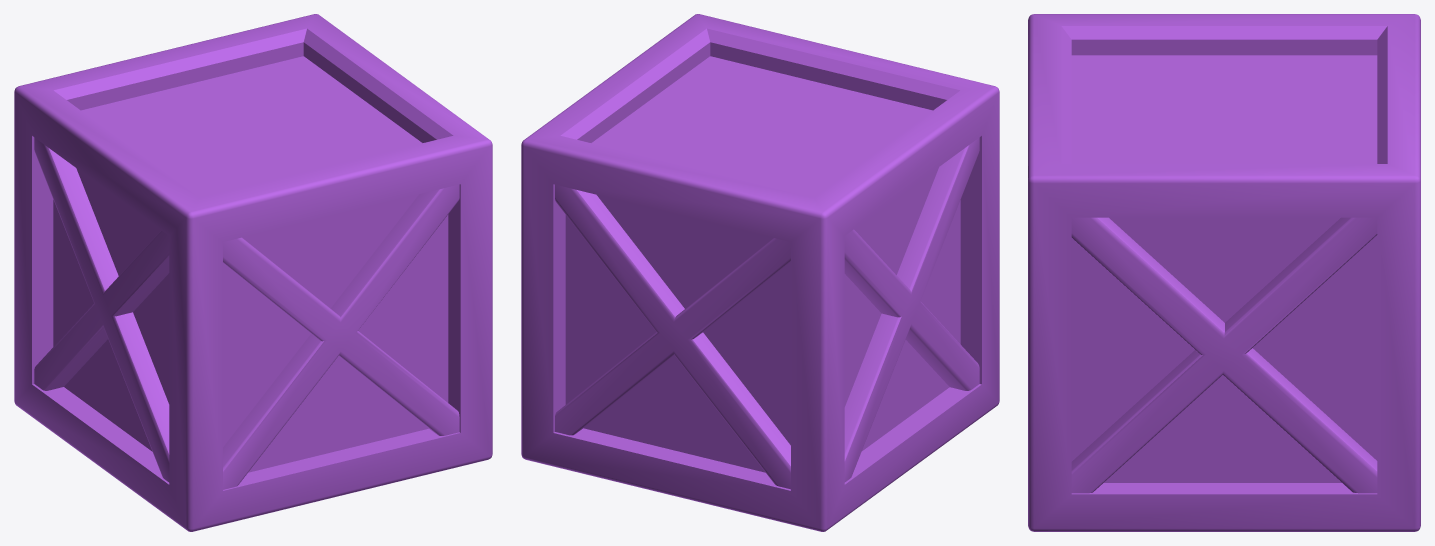
File: wooden crate.fbx
3 renders of one model, left to right at view 1: azimuth 30°, elevation 25°; view 2: azimuth 150°, elevation 25°; view 3: azimuth 270°, elevation 25°, orthographic. The views are drawn at different scales.
Parts seen in each view (by area): view 1: crate; view 2: crate; view 3: crate.
Part boxes in pixels (left/top/right/bottom): crate: left=14, top=14, right=492, bottom=531; crate: left=521, top=14, right=999, bottom=531; crate: left=1028, top=14, right=1420, bottom=531.
Bounding box in the file's own units: 200 × 200 × 200.
